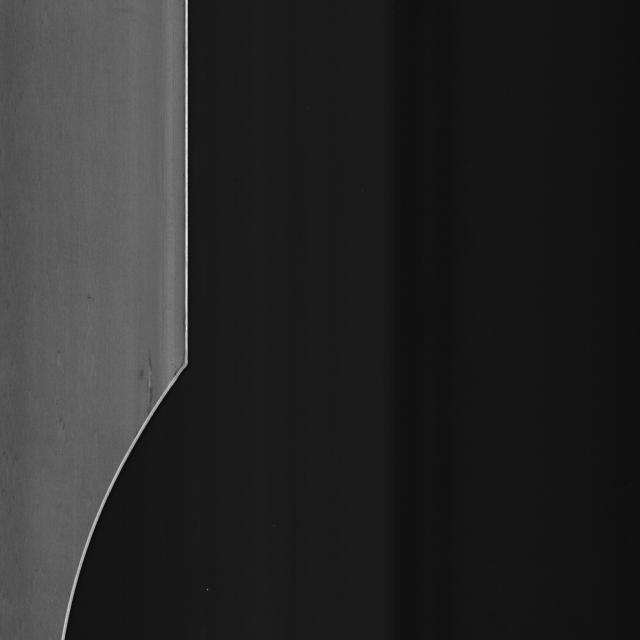silk_spot: (52, 324, 197, 639)
